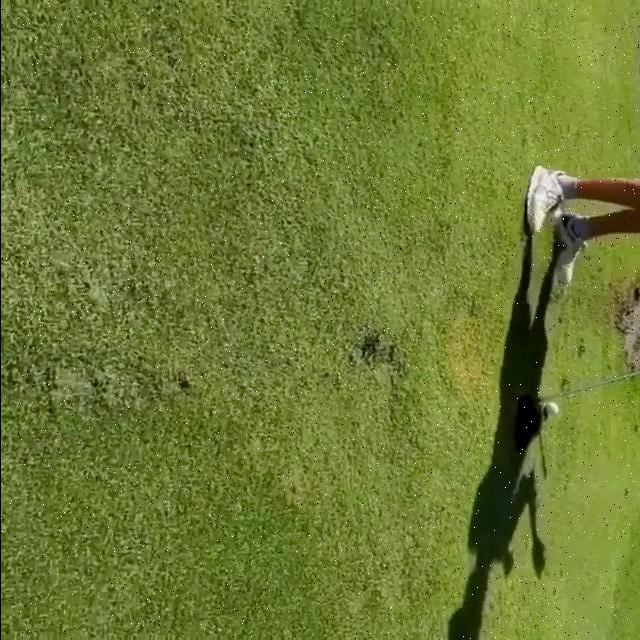ClubHandle: (516, 371, 639, 443)
ClubHead: (516, 396, 541, 443)
GolfBall: (545, 402, 559, 415)
